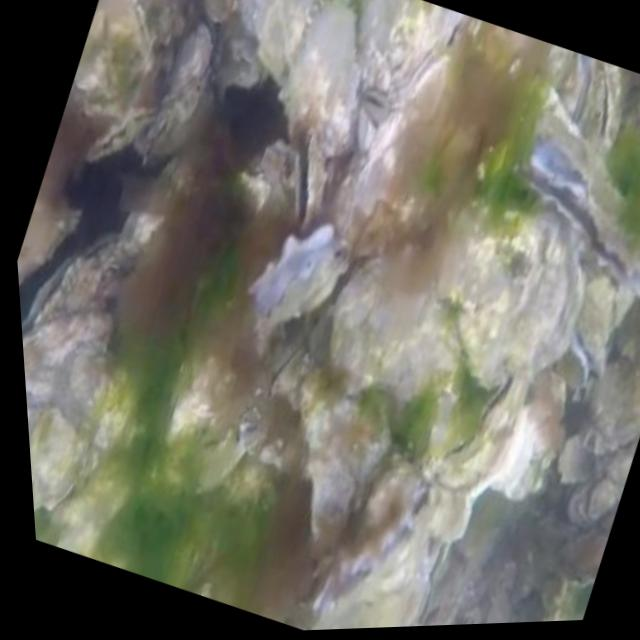Oyster-Closed: (459, 201, 587, 390), (22, 233, 122, 334), (240, 0, 344, 83), (71, 0, 152, 97), (22, 318, 80, 433), (30, 410, 87, 511), (17, 202, 79, 284), (83, 104, 154, 165), (589, 61, 623, 154), (270, 345, 304, 400), (146, 112, 173, 167)
Oyster-Indeterminate: (332, 257, 457, 392), (284, 5, 361, 155), (494, 373, 567, 500), (359, 0, 451, 90), (439, 211, 503, 308), (365, 457, 418, 540), (590, 359, 640, 441), (167, 15, 216, 97), (557, 437, 596, 481), (588, 482, 617, 518), (483, 592, 513, 624)
Oyster-Open: (311, 487, 431, 630), (513, 158, 640, 291), (431, 371, 529, 487), (248, 226, 348, 324), (528, 111, 595, 192), (293, 134, 326, 222), (363, 90, 393, 118)
